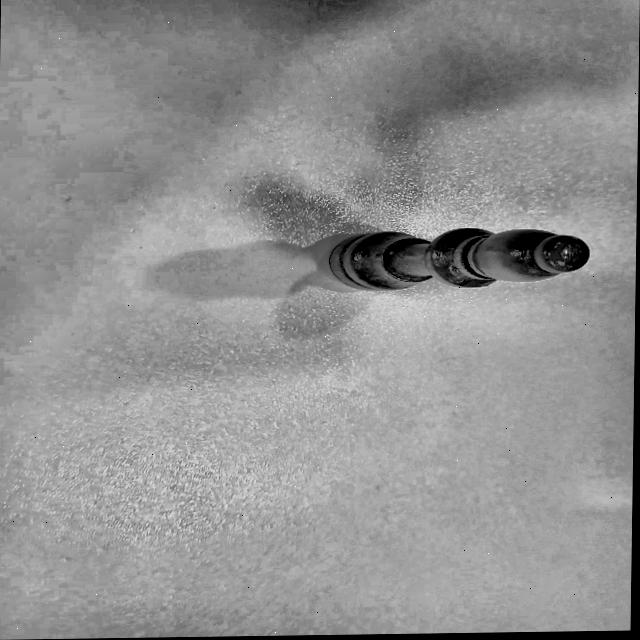black-bishop: (312, 217, 604, 305)
